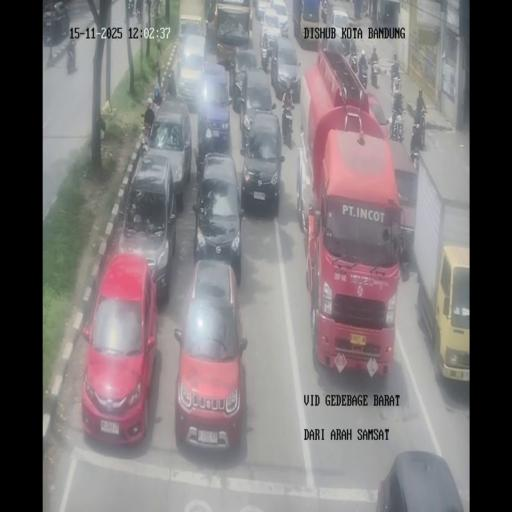car: (81, 250, 159, 445), (172, 260, 248, 452), (192, 153, 244, 279), (144, 101, 193, 204), (196, 64, 232, 155), (238, 65, 274, 132), (177, 36, 206, 108), (270, 35, 302, 100), (42, 2, 70, 44), (177, 14, 202, 44), (268, 0, 289, 35), (256, 0, 272, 23)
motorcycle: (389, 108, 405, 143), (281, 104, 293, 148), (141, 112, 154, 143), (165, 68, 177, 100), (410, 134, 420, 168), (261, 38, 271, 72), (67, 38, 76, 74), (418, 111, 427, 147), (391, 72, 402, 99), (339, 33, 351, 57), (348, 49, 358, 74), (359, 62, 368, 88), (370, 61, 378, 88), (153, 82, 162, 105), (320, 1, 328, 24), (135, 4, 142, 24), (127, 0, 135, 16), (361, 0, 368, 18)
truck: (296, 45, 406, 379), (412, 134, 469, 382), (385, 140, 419, 261), (214, 2, 251, 66), (298, 0, 324, 48), (366, 93, 388, 134)
